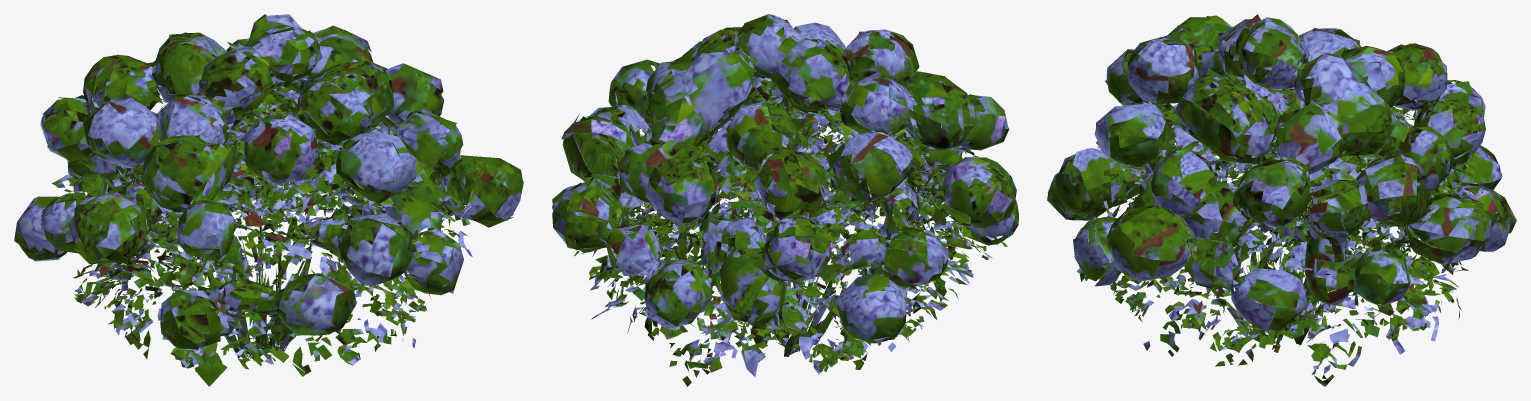
The model's file is veg_shrub_hydrangea_01.obj.
3 views of the same model, side by side, from view 1: azimuth 30°, elevation 25°; view 2: azimuth 150°, elevation 25°; view 3: azimuth 270°, elevation 25° (orthographic).
Visible parts, largest first — view 1: veg_shrub_hydrangea_01; view 2: veg_shrub_hydrangea_01; view 3: veg_shrub_hydrangea_01.
Boxes of the visible parts, x1,y1,x2,y2 form: veg_shrub_hydrangea_01: (14,14,523,386); veg_shrub_hydrangea_01: (552,14,1018,386); veg_shrub_hydrangea_01: (1047,14,1516,386).
Bounding box in the file's own units: 1.38 × 1.05 × 1.4.
Materials: 1 (1 with a texture image).
